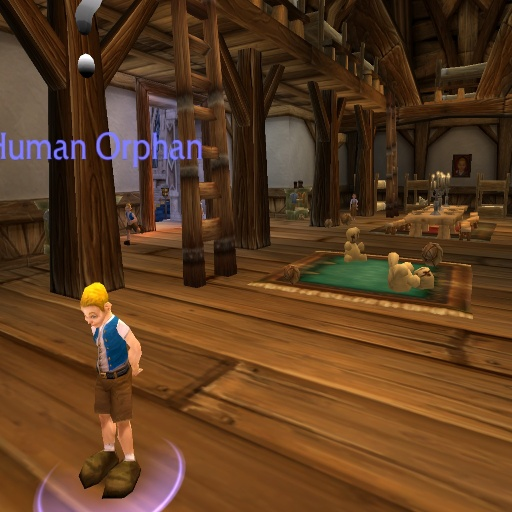hand: (120, 319, 144, 370), (126, 219, 132, 226), (347, 206, 352, 213), (355, 205, 358, 211)
